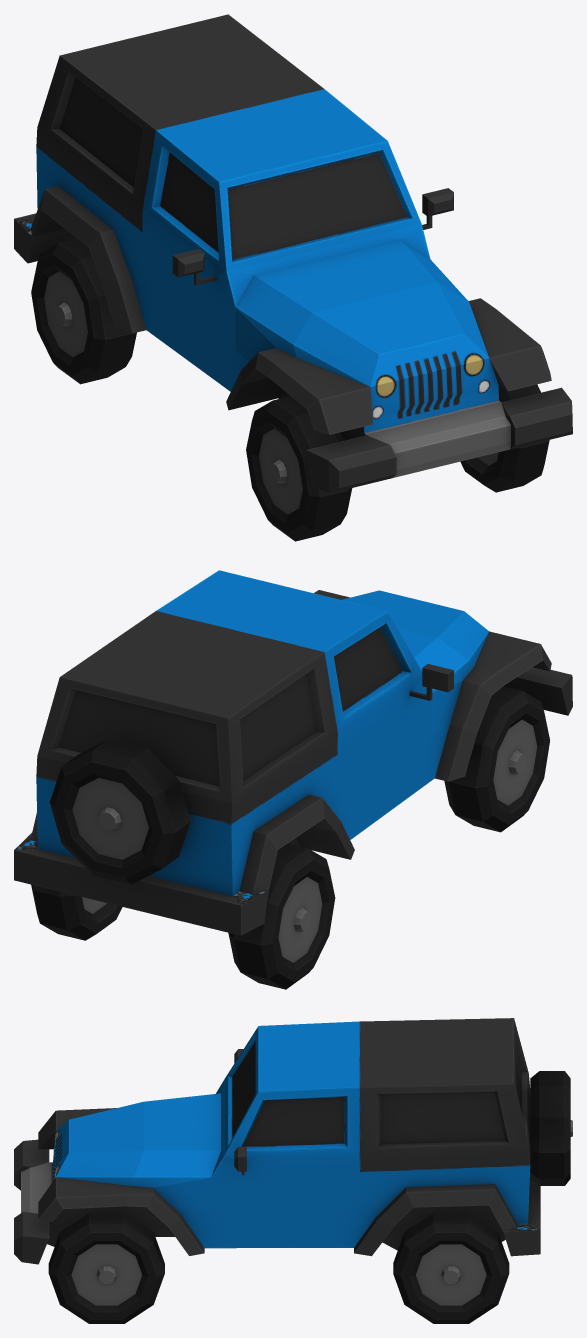
The model's file is adbe415d-9c61-4314-8960-4e069ea91481.glb.
The picture shows the model from 3 angles, top to bottom: view 1: azimuth 30°, elevation 25°; view 2: azimuth 150°, elevation 25°; view 3: azimuth 270°, elevation 25°; orthographic projection. The views are drawn at different scales.
Parts seen in each view (by area): view 1: Jeep_mesh; view 2: Jeep_mesh; view 3: Jeep_mesh.
Part boxes in pixels (box(x1,y1,x2,y2)): Jeep_mesh: box(14, 14, 572, 541); Jeep_mesh: box(14, 570, 572, 989); Jeep_mesh: box(14, 1018, 572, 1323).
Size of the model in its own units: 11.93 by 11.78 by 26.15.
1 material, 1 textured.
